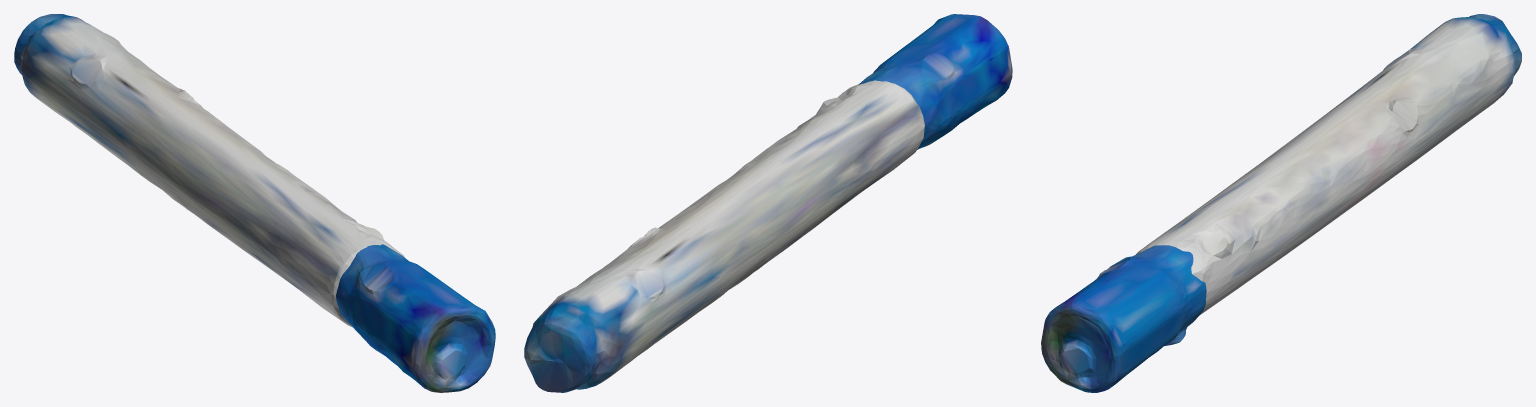
3 views of the same model, side by side, from view 1: azimuth 30°, elevation 25°; view 2: azimuth 150°, elevation 25°; view 3: azimuth 330°, elevation 25° (orthographic).
Visible parts, largest first — view 1: world; view 2: world; view 3: world.
Part boxes in pixels (x1=…): world: x1=14, y1=14, x2=495, y2=392; world: x1=524, y1=14, x2=1012, y2=392; world: x1=1041, y1=14, x2=1521, y2=392.
Size of the model in its own units: 0.0163 by 0.0169 by 0.1431.
